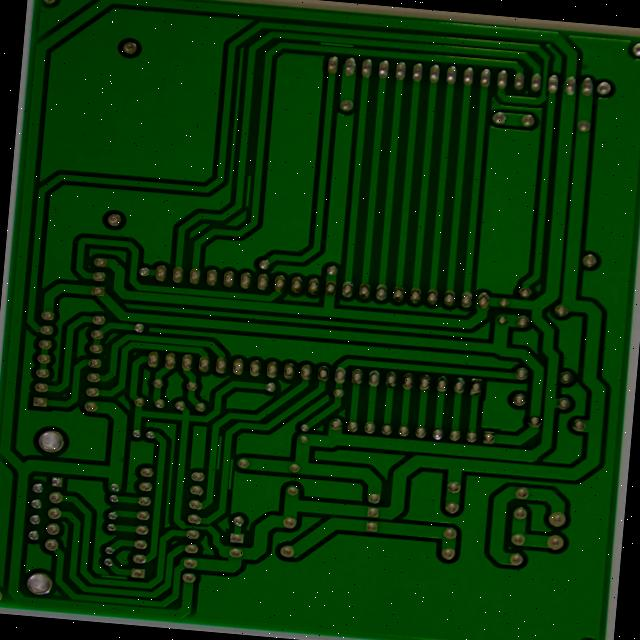spurious_copper: (182, 482, 200, 524), (281, 36, 329, 51), (199, 178, 215, 218), (168, 459, 183, 501), (42, 607, 80, 619)
